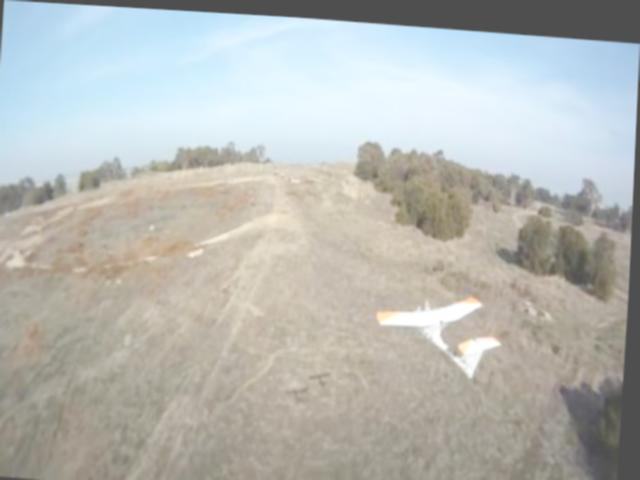uav: (368, 276, 509, 384)
